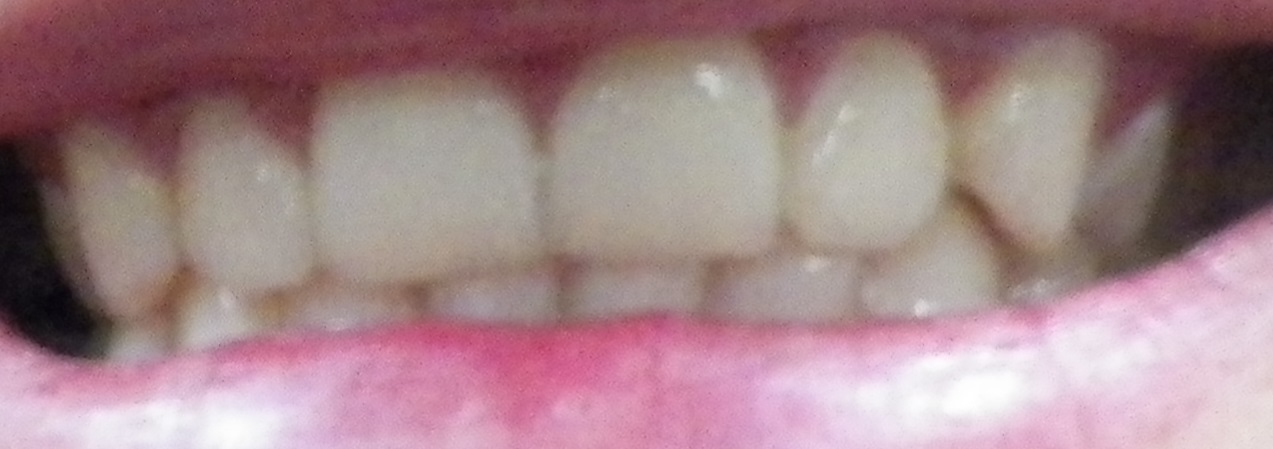boca: (32, 42, 1205, 340)
